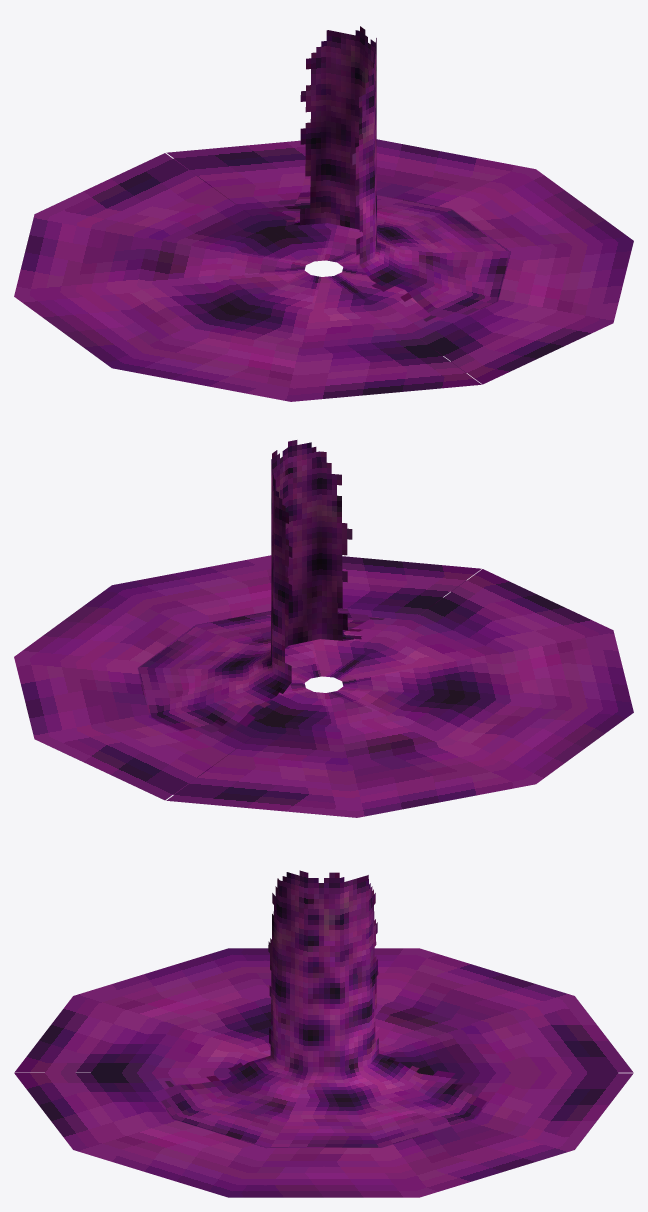
File: eff_enem_MA_Duon_Kagemusi2_pori_S06_M.obj
3 renders of one model, top to bottom at view 1: azimuth 30°, elevation 25°; view 2: azimuth 150°, elevation 25°; view 3: azimuth 270°, elevation 25°, orthographic. The views are drawn at different scales.
Parts seen in each view (by area): view 1: polygon0, polygon1; view 2: polygon0, polygon1; view 3: polygon0, polygon1.
Part boxes in pixels (x1,y1,x2,y2): polygon0: [14, 139, 633, 401]; polygon1: [267, 26, 509, 321]; polygon0: [14, 555, 633, 817]; polygon1: [138, 440, 384, 732]; polygon0: [14, 948, 633, 1197]; polygon1: [161, 870, 486, 1147].
Bounding box in the file's own units: 27.71 × 11.75 × 29.14.
Materials: 2 (2 with a texture image).
